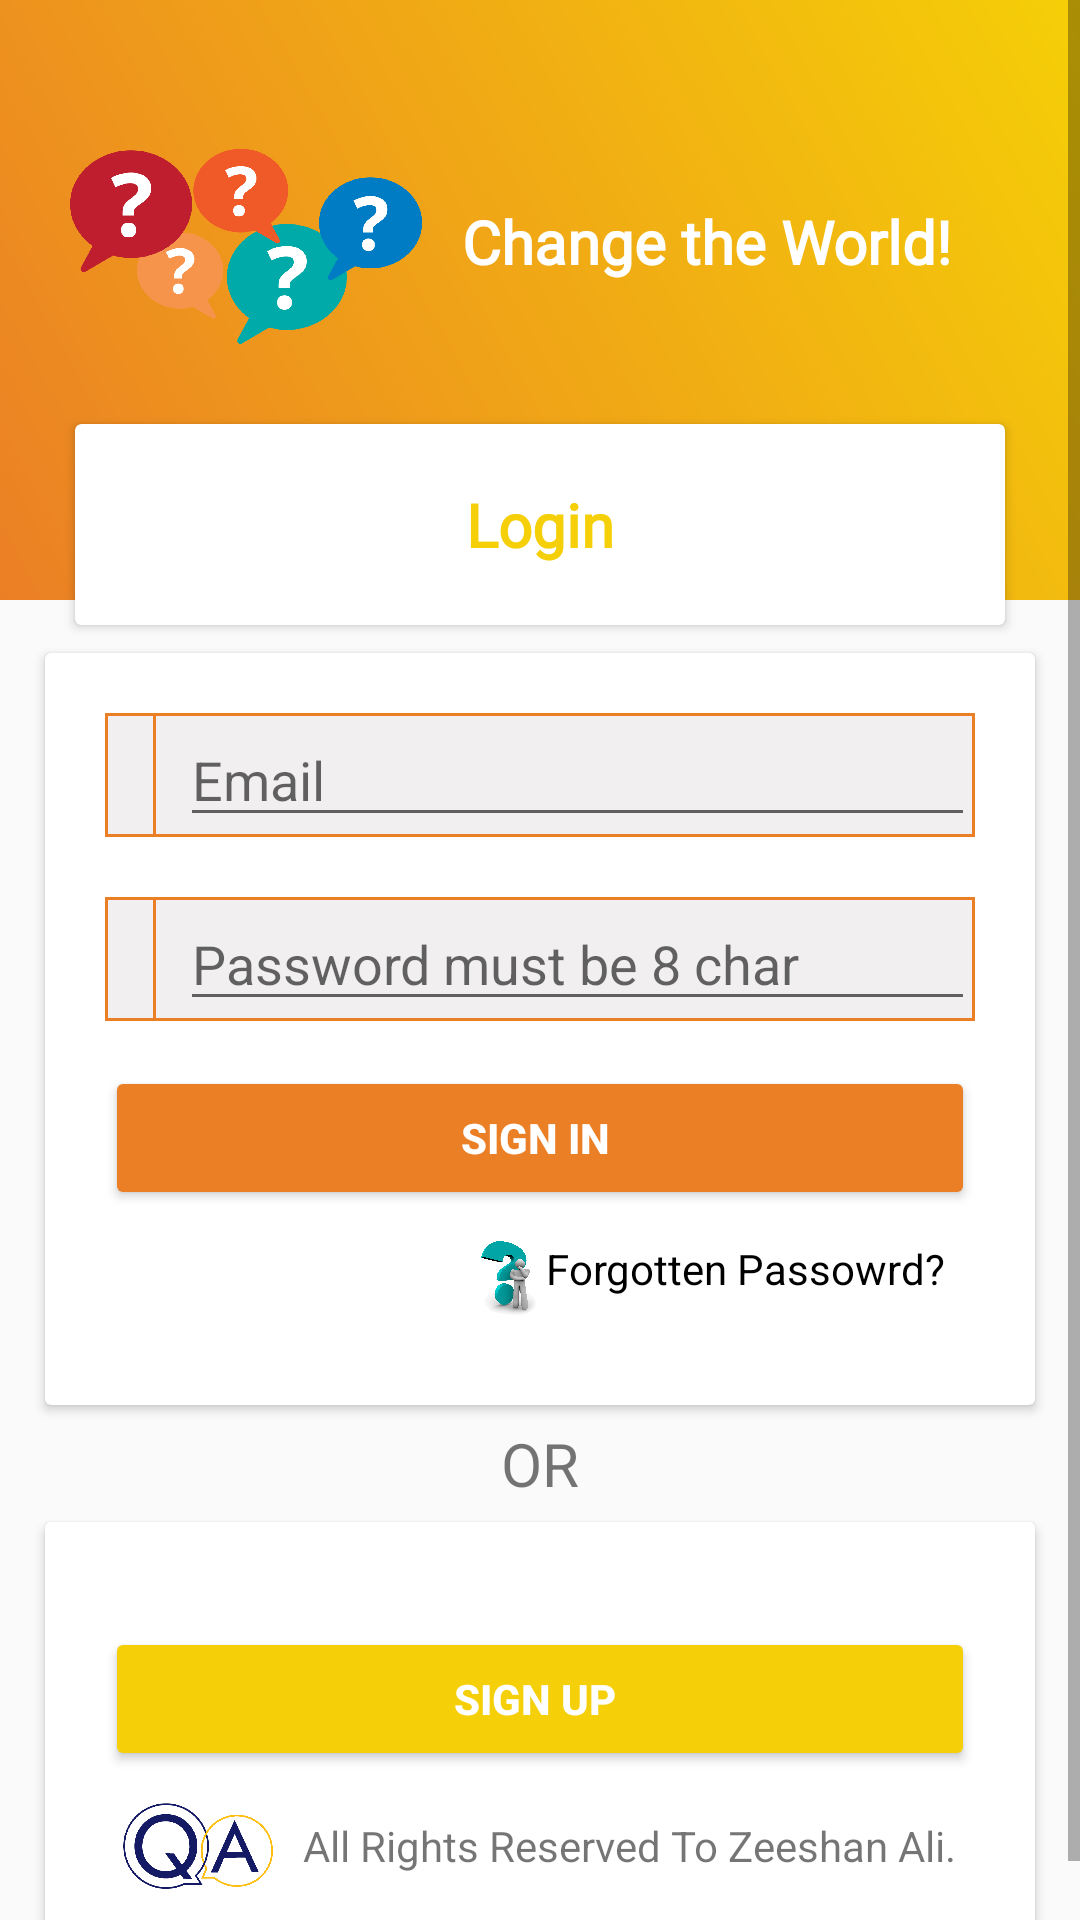

Where to tap for icons on this 1080 × 1920 app screen, as point (x, y):
questions marks: point (246, 246)
